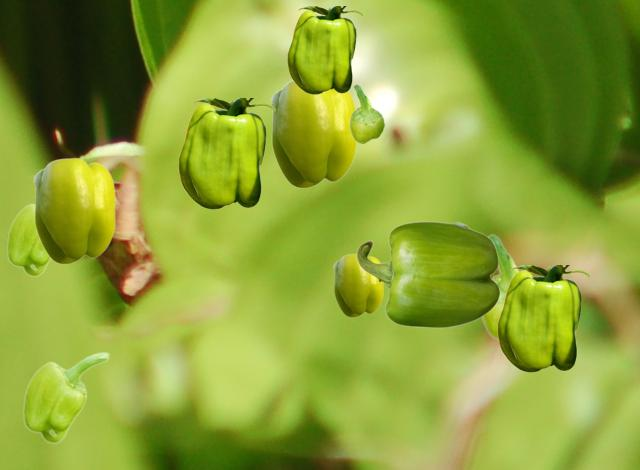bell_pepper: (356, 221, 499, 327), (178, 98, 274, 208), (497, 265, 589, 371), (270, 80, 355, 187), (33, 157, 114, 263), (22, 351, 109, 443), (287, 6, 362, 93), (480, 234, 518, 340), (6, 203, 51, 276), (333, 253, 382, 316), (349, 84, 384, 143)
